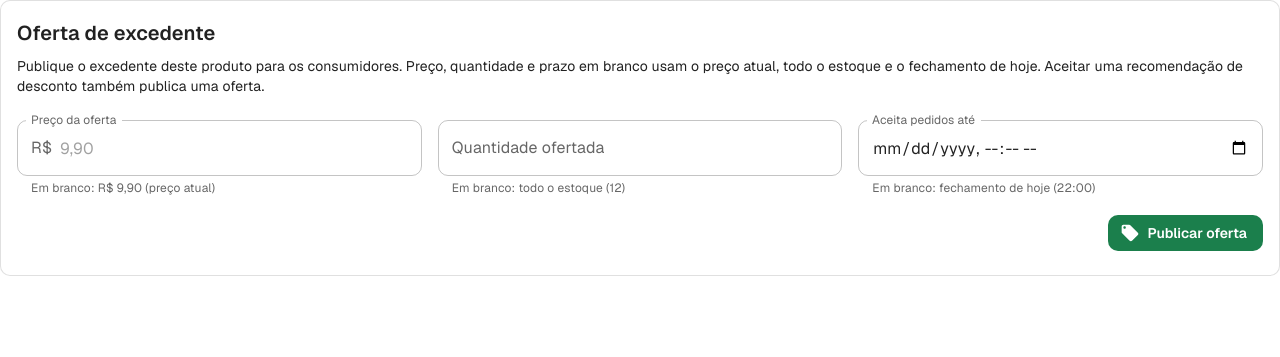
it: ProductOfferCard › publishes the surplus with the backend defaults when nothing is informed
Click the button "Publicar oferta" at {"x": 1185, "y": 233}, box [1108, 215, 1263, 251]
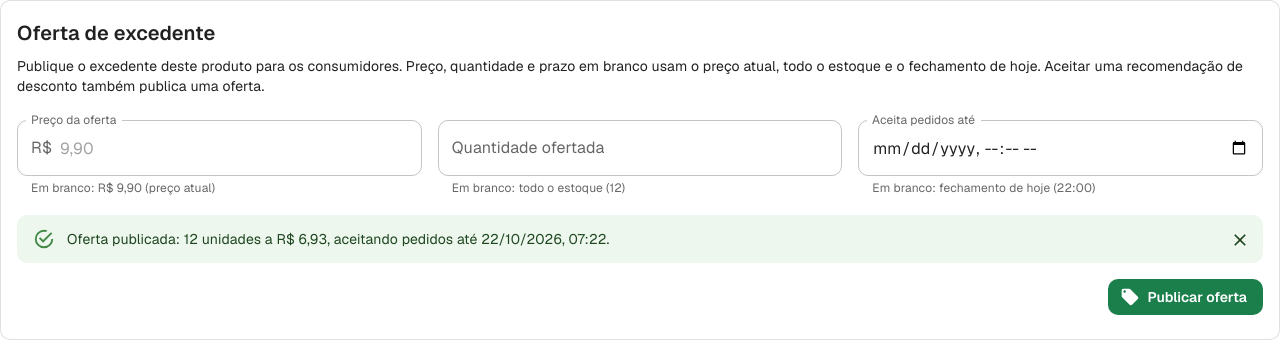
Check: the text "Oferta publicada: 12 unidades a R$ 6,93" is shown, box [67, 230, 610, 248]
